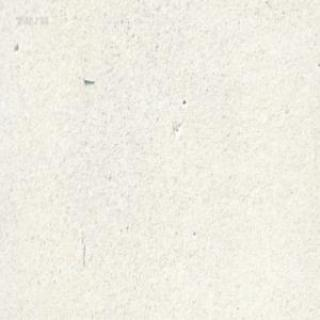Nailtrack_idkeyframe: (82, 76, 94, 83)
